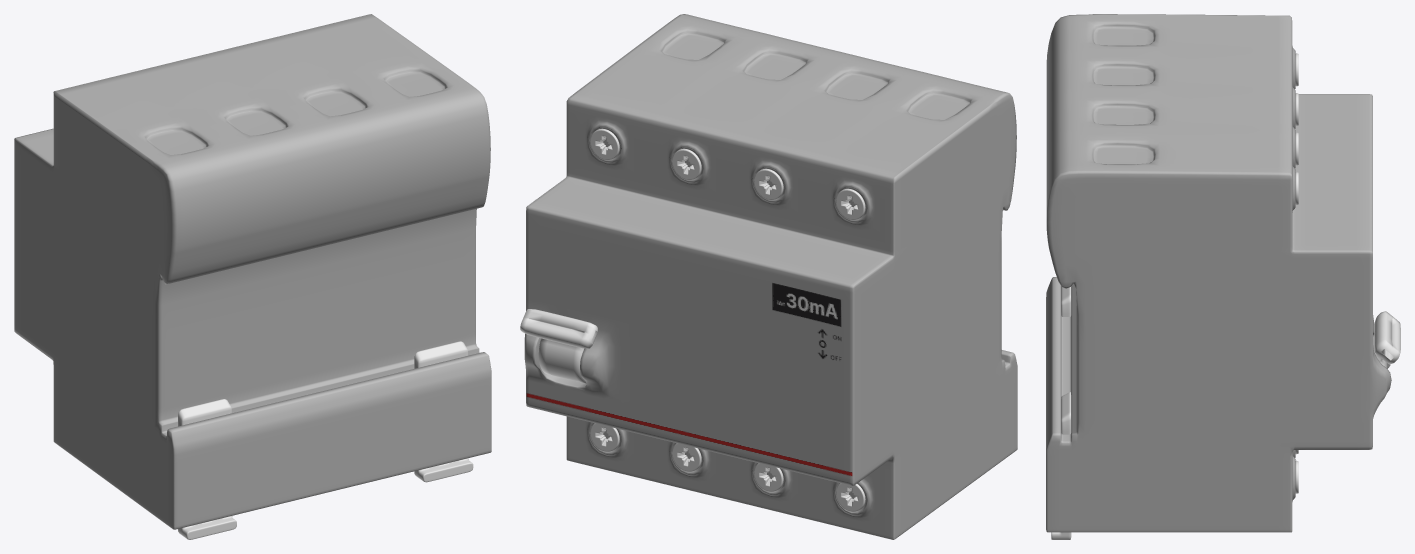
File: DiffDisj30mA.fbx
The picture shows the model from 3 angles, left to right: view 1: azimuth 30°, elevation 25°; view 2: azimuth 150°, elevation 25°; view 3: azimuth 270°, elevation 25°; orthographic projection. The views are drawn at different scales.
Visible parts, largest first — view 1: RC Circuit Breaker Body, Lock.002; view 2: RC Circuit Breaker Body, switch.004, screw, screw.006, screw.010, screw.008, screw.011, screw.005, screw.009, screw.007; view 3: RC Circuit Breaker Body, switch.004, Lock.002.
Boxes of the visible parts, left/top/right/bottom form: RC Circuit Breaker Body: left=14, top=14, right=491, bottom=529; Lock.002: left=178, top=341, right=473, bottom=539; RC Circuit Breaker Body: left=524, top=14, right=1017, bottom=539; switch.004: left=520, top=309, right=597, bottom=383; screw: left=590, top=128, right=619, bottom=159; screw.006: left=672, top=148, right=701, bottom=179; screw.010: left=836, top=188, right=865, bottom=219; screw.008: left=754, top=168, right=783, bottom=199; screw.011: left=836, top=483, right=865, bottom=511; screw.005: left=590, top=423, right=619, bottom=451; screw.009: left=754, top=463, right=783, bottom=491; screw.007: left=672, top=443, right=701, bottom=471; RC Circuit Breaker Body: left=1046, top=14, right=1391, bottom=532; switch.004: left=1373, top=311, right=1400, bottom=367; Lock.002: left=1051, top=286, right=1071, bottom=539.
Bounding box in the file's own units: 0.0843 × 0.0937 × 0.0799.
